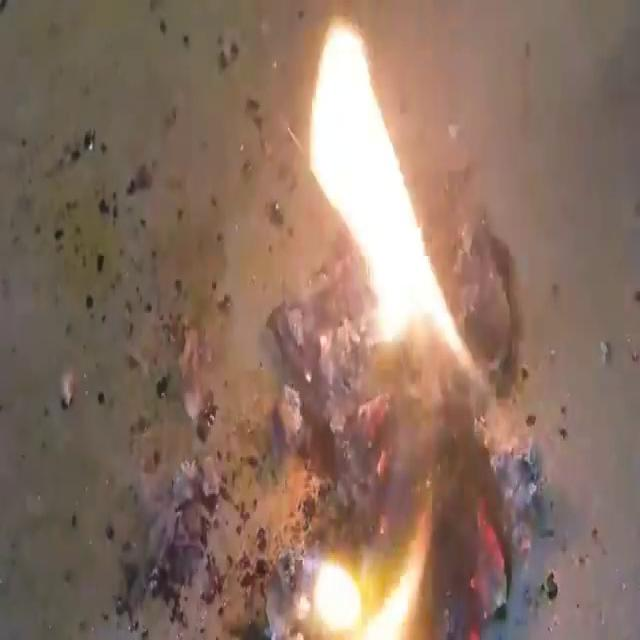Fire: (304, 16, 477, 382), (184, 458, 480, 640)
